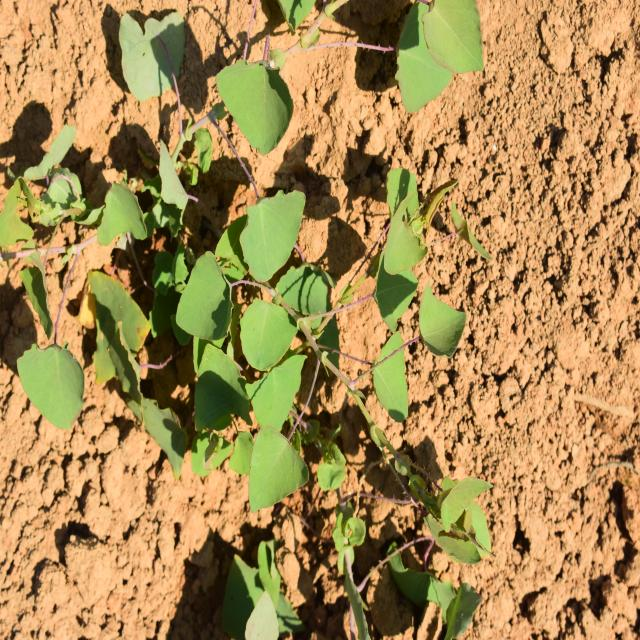Asiatic_Smartweed: (180, 185, 328, 508), (350, 206, 469, 438), (214, 30, 317, 183), (397, 0, 488, 121), (18, 324, 88, 441)
